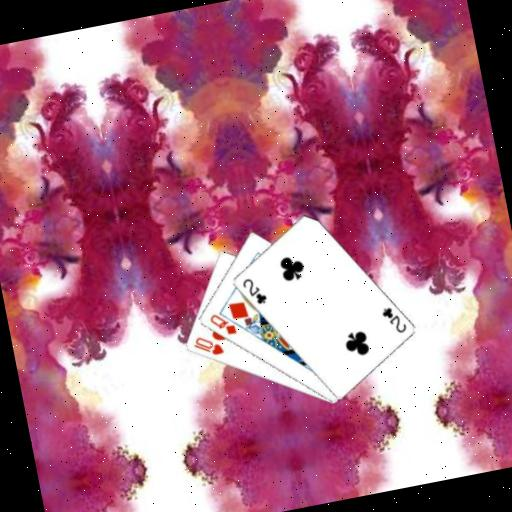10H: (188, 330, 226, 361)
2C: (238, 272, 269, 308), (378, 302, 409, 338)
QD: (206, 308, 239, 340)
